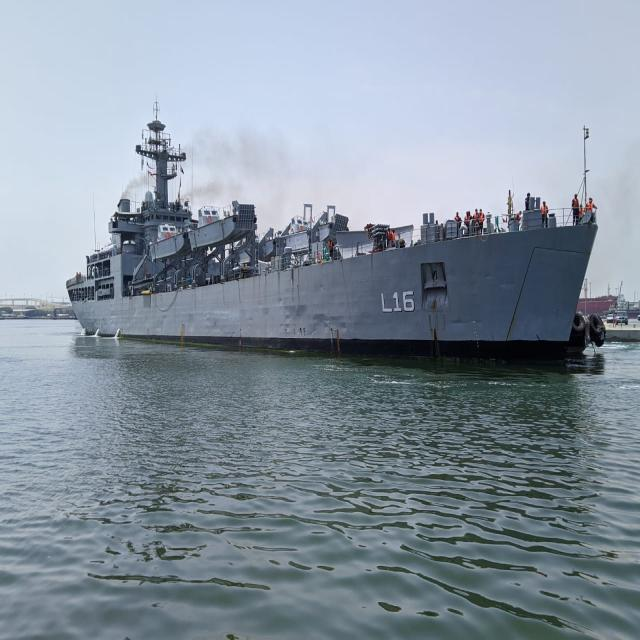Landing-Ship-Shardul-Class-IND: (54, 70, 607, 378)
